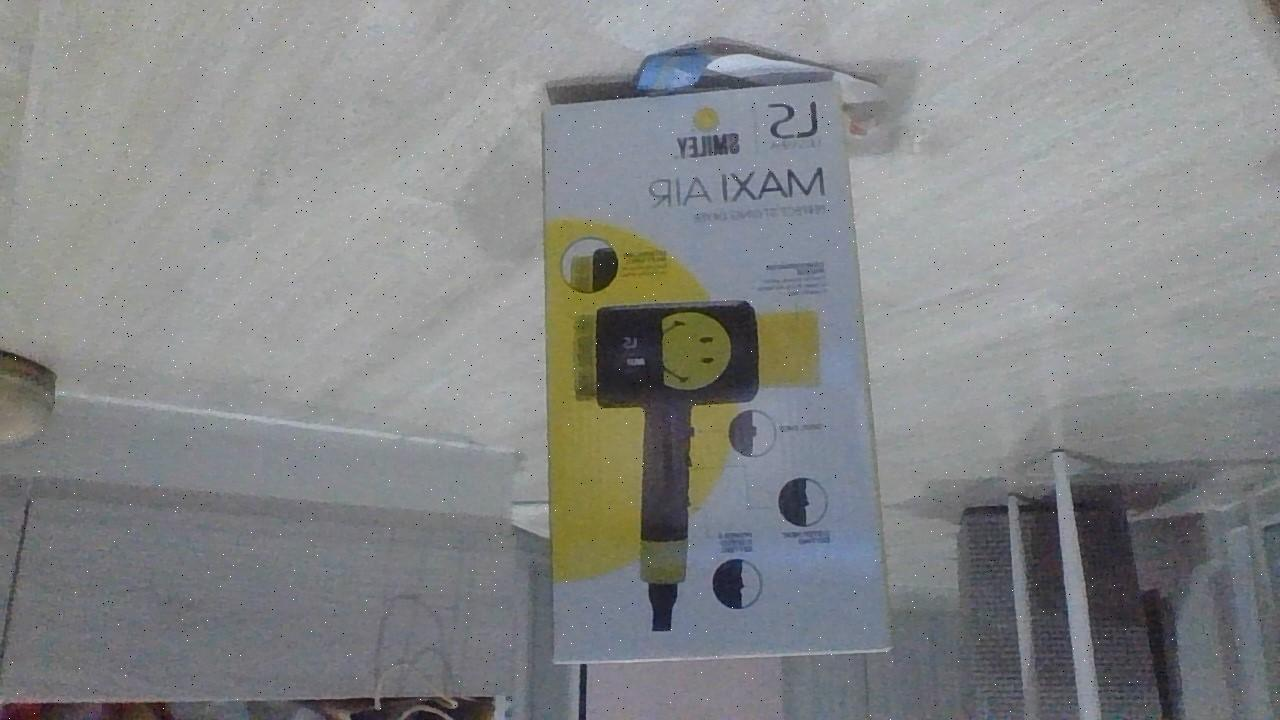IRON: (536, 58, 896, 670)
